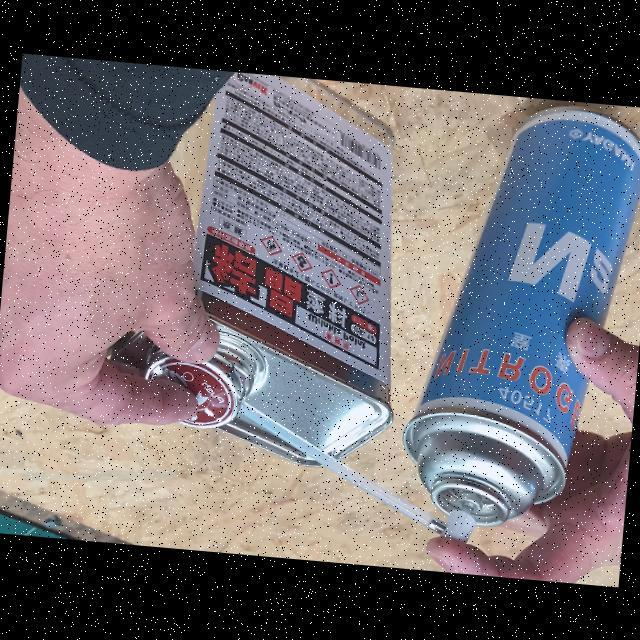chemical_spray_can: (383, 88, 640, 563)
